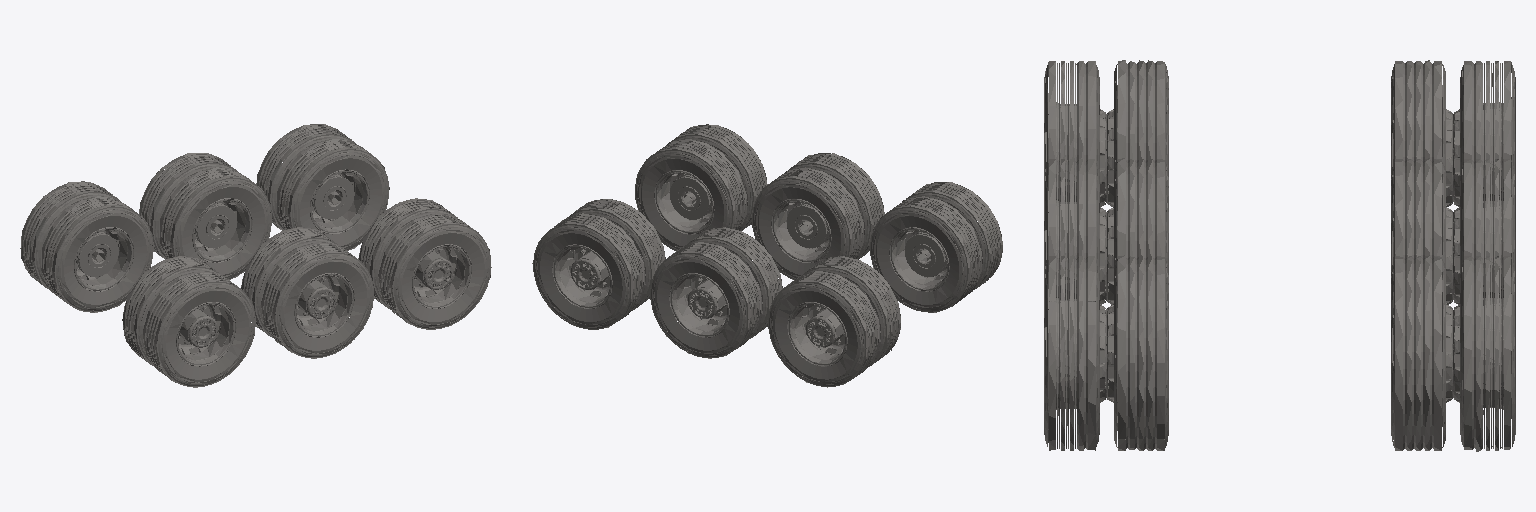
The robot description file, URDF, robot "semitrailer":
<robot name="semitrailer" version="1.0">
  <joint name="semitrailer_base_link_joint" type="fixed">
    <origin rpy="0.00000 0.00000 0.00000" xyz="-5.40764 0.00000 -1.19273" />
    <parent link="semitrailer_kingpin_link" />
    <child link="semitrailer_base_link" />
  </joint>
  <joint name="semitrailer_chassis_link_joint" type="fixed">
    <origin rpy="0.00000 0.00000 0.00000" xyz="-9.61183 0.00000 -0.28836" />
    <parent link="semitrailer_kingpin_link" />
    <child link="semitrailer_chassis_link" />
  </joint>
  <joint name="semitrailer_flw_link_joint" type="continuous">
    <limit lower="0" upper="0" effort="0.00000" velocity="0.00000" />
    <origin rpy="0.00000 0.00000 0.00000" xyz="-8.24915 0.93800 -0.67305" />
    <parent link="semitrailer_kingpin_link" />
    <child link="semitrailer_flw_link" />
    <axis xyz="0.00000 1.00000 0.00000" />
  </joint>
  <joint name="semitrailer_frw_link_joint" type="continuous">
    <limit lower="0" upper="0" effort="0.00000" velocity="0.00000" />
    <origin rpy="0.00000 0.00000 0.00000" xyz="-8.24914 -0.93800 -0.67305" />
    <parent link="semitrailer_kingpin_link" />
    <child link="semitrailer_frw_link" />
    <axis xyz="0.00000 1.00000 0.00000" />
  </joint>
  <joint name="semitrailer_mlw_link_joint" type="continuous">
    <limit lower="0" upper="0" effort="0.00000" velocity="0.00000" />
    <origin rpy="0.00000 0.00000 0.00000" xyz="-9.49231 0.93800 -0.67305" />
    <parent link="semitrailer_kingpin_link" />
    <child link="semitrailer_mlw_link" />
    <axis xyz="0.00000 1.00000 0.00000" />
  </joint>
  <joint name="semitrailer_mrw_link_joint" type="continuous">
    <limit lower="0" upper="0" effort="0.00000" velocity="0.00000" />
    <origin rpy="0.00000 0.00000 0.00000" xyz="-9.49231 -0.93800 -0.67305" />
    <parent link="semitrailer_kingpin_link" />
    <child link="semitrailer_mrw_link" />
    <axis xyz="0.00000 1.00000 0.00000" />
  </joint>
  <joint name="semitrailer_rear_axle_link_joint" type="fixed">
    <origin rpy="0.00000 0.00000 0.00000" xyz="-9.49568 0.00000 -0.67305" />
    <parent link="semitrailer_kingpin_link" />
    <child link="semitrailer_rear_axle_link" />
  </joint>
  <joint name="semitrailer_rear_end_link_joint" type="fixed">
    <origin rpy="0.00000 0.00000 0.00000" xyz="-12.27580 0.00000 -0.28836" />
    <parent link="semitrailer_kingpin_link" />
    <child link="semitrailer_rear_end_link" />
  </joint>
  <joint name="semitrailer_rear_left_end_link_joint" type="fixed">
    <origin rpy="0.00000 0.00000 -3.14159" xyz="-12.27580 0.93800 -0.28836" />
    <parent link="semitrailer_kingpin_link" />
    <child link="semitrailer_rear_left_end_link" />
  </joint>
  <joint name="semitrailer_rear_right_end_link_joint" type="fixed">
    <origin rpy="0.00000 0.00000 -3.14159" xyz="-12.27580 -0.93800 -0.28836" />
    <parent link="semitrailer_kingpin_link" />
    <child link="semitrailer_rear_right_end_link" />
  </joint>
  <joint name="semitrailer_rlw_link_joint" type="continuous">
    <limit lower="0" upper="0" effort="0.00000" velocity="0.00000" />
    <origin rpy="0.00000 0.00000 0.00000" xyz="-10.74559 0.93800 -0.67305" />
    <parent link="semitrailer_kingpin_link" />
    <child link="semitrailer_rlw_link" />
    <axis xyz="0.00000 1.00000 0.00000" />
  </joint>
  <joint name="semitrailer_rrw_link_joint" type="continuous">
    <limit lower="0" upper="0" effort="0.00000" velocity="0.00000" />
    <origin rpy="0.00000 0.00000 0.00000" xyz="-10.74558 -0.93800 -0.67305" />
    <parent link="semitrailer_kingpin_link" />
    <child link="semitrailer_rrw_link" />
    <axis xyz="0.00000 1.00000 0.00000" />
  </joint>
  <link name="semitrailer_base_link" />
  <link name="semitrailer_chassis_link">
    <visual name="body">
      <origin rpy="0.00000 0.00000 -0.00000" xyz="0.00000 0.00000 0.00000" />
      <material name="mat_0.036" />
      <geometry>
        <mesh filename="package://waywiser_description/meshes/semitrailer/body.dae"
          scale="1.00000 1.00000 1.00000" />
      </geometry>
    </visual>
  </link>
  <link name="semitrailer_flw_link">
    <visual name="flw">
      <origin rpy="0.00000 0.00000 -0.00000" xyz="0.00000 0.00000 0.00000" />
      <material name="mat_13.031" />
      <geometry>
        <mesh filename="package://waywiser_description/meshes/semitrailer/front_left_wheel.dae"
          scale="1.00000 1.00000 1.00000" />
      </geometry>
    </visual>
  </link>
  <link name="semitrailer_frw_link">
    <visual name="frw">
      <origin rpy="-0.00000 0.00000 -3.14159" xyz="0.00000 0.00000 0.00000" />
      <material name="mat_13.031" />
      <geometry>
        <mesh filename="package://waywiser_description/meshes/semitrailer/front_left_wheel.dae"
          scale="1.00000 1.00000 1.00000" />
      </geometry>
    </visual>
  </link>
  <link name="semitrailer_kingpin_link" />
  <link name="semitrailer_mlw_link">
    <visual name="mlw">
      <origin rpy="0.00000 0.00000 -0.00000" xyz="0.00000 0.00000 0.00000" />
      <material name="mat_13.031" />
      <geometry>
        <mesh filename="package://waywiser_description/meshes/semitrailer/front_left_wheel.dae"
          scale="1.00000 1.00000 1.00000" />
      </geometry>
    </visual>
  </link>
  <link name="semitrailer_mrw_link">
    <visual name="mrw">
      <origin rpy="-0.00000 0.00000 -3.14159" xyz="0.00000 0.00000 0.00000" />
      <material name="mat_13.031" />
      <geometry>
        <mesh filename="package://waywiser_description/meshes/semitrailer/front_left_wheel.dae"
          scale="1.00000 1.00000 1.00000" />
      </geometry>
    </visual>
  </link>
  <link name="semitrailer_rear_axle_link" />
  <link name="semitrailer_rear_end_link" />
  <link name="semitrailer_rear_left_end_link" />
  <link name="semitrailer_rear_right_end_link" />
  <link name="semitrailer_rlw_link">
    <visual name="rlw">
      <origin rpy="0.00000 0.00000 -0.00000" xyz="0.00000 0.00000 0.00000" />
      <material name="mat_13.031" />
      <geometry>
        <mesh filename="package://waywiser_description/meshes/semitrailer/front_left_wheel.dae"
          scale="1.00000 1.00000 1.00000" />
      </geometry>
    </visual>
  </link>
  <link name="semitrailer_rrw_link">
    <visual name="rrw">
      <origin rpy="-0.00000 0.00000 -3.14159" xyz="0.00000 0.00000 0.00000" />
      <material name="mat_13.031" />
      <geometry>
        <mesh filename="package://waywiser_description/meshes/semitrailer/front_left_wheel.dae"
          scale="1.00000 1.00000 1.00000" />
      </geometry>
    </visual>
  </link>
  <material name="mat_0.036">
    <color rgba="0.31765 0.31765 0.31765 1.00000" />
  </material>
  <material name="mat_13.031">
    <color rgba="0.51373 0.50196 0.49020 1.00000" />
  </material>
</robot>

--- Render facts (derived) ---
Views: 3 orthographic renders of the robot side by side, from view 1: azimuth 30°, elevation 25°; view 2: azimuth 150°, elevation 25°; view 3: azimuth 270°, elevation 25°.
Model semitrailer with 13 links and 12 joints (6 continuous, 6 fixed), rooted at semitrailer_kingpin_link, posed all joints at 0.
Links seen in each view (by area): view 1: semitrailer_rrw_link, semitrailer_rlw_link, semitrailer_mrw_link, semitrailer_frw_link, semitrailer_mlw_link, semitrailer_flw_link; view 2: semitrailer_rlw_link, semitrailer_rrw_link, semitrailer_mlw_link, semitrailer_flw_link, semitrailer_mrw_link, semitrailer_frw_link; view 3: semitrailer_frw_link, semitrailer_flw_link, semitrailer_rlw_link, semitrailer_rrw_link, semitrailer_mlw_link, semitrailer_mrw_link.
Link boxes in pixels (<box>): semitrailer_rrw_link: <box>122,256,255,387</box>; semitrailer_rlw_link: <box>20,181,153,312</box>; semitrailer_mrw_link: <box>241,227,373,358</box>; semitrailer_frw_link: <box>358,198,491,329</box>; semitrailer_mlw_link: <box>139,153,271,279</box>; semitrailer_flw_link: <box>256,124,389,250</box>; semitrailer_rlw_link: <box>768,256,900,387</box>; semitrailer_rrw_link: <box>870,182,1002,312</box>; semitrailer_mlw_link: <box>650,227,782,358</box>; semitrailer_flw_link: <box>532,199,665,329</box>; semitrailer_mrw_link: <box>752,153,884,279</box>; semitrailer_frw_link: <box>635,124,767,250</box>; semitrailer_frw_link: <box>1044,255,1168,450</box>; semitrailer_flw_link: <box>1391,255,1515,451</box>; semitrailer_rlw_link: <box>1391,60,1515,206</box>; semitrailer_rrw_link: <box>1044,60,1168,206</box>; semitrailer_mlw_link: <box>1391,158,1515,304</box>; semitrailer_mrw_link: <box>1044,158,1168,304</box>.
Size in the robot's own frame: 3.56 by 2.55 by 1.06 metres.
Meshes: 2 distinct files referenced, 6 mesh visuals loaded (1 Collada DAE); not drawn: 1 (reference not matched to a file when rendering).
